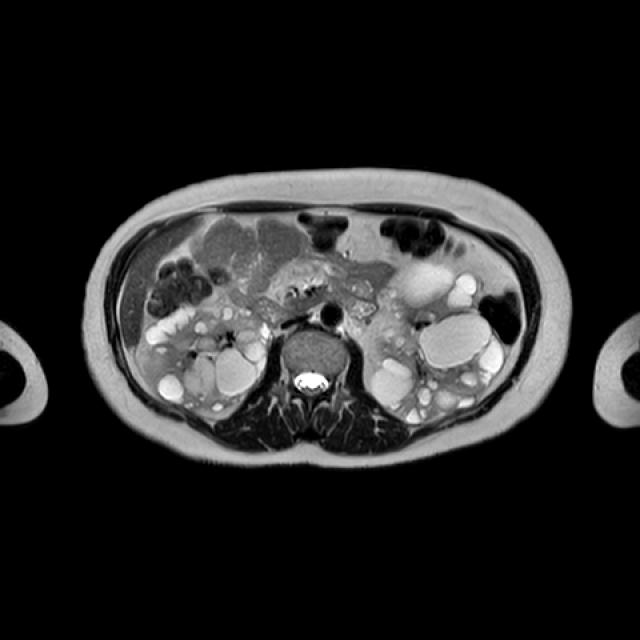sag: (142, 303, 273, 412)
sol: (369, 261, 505, 423)
